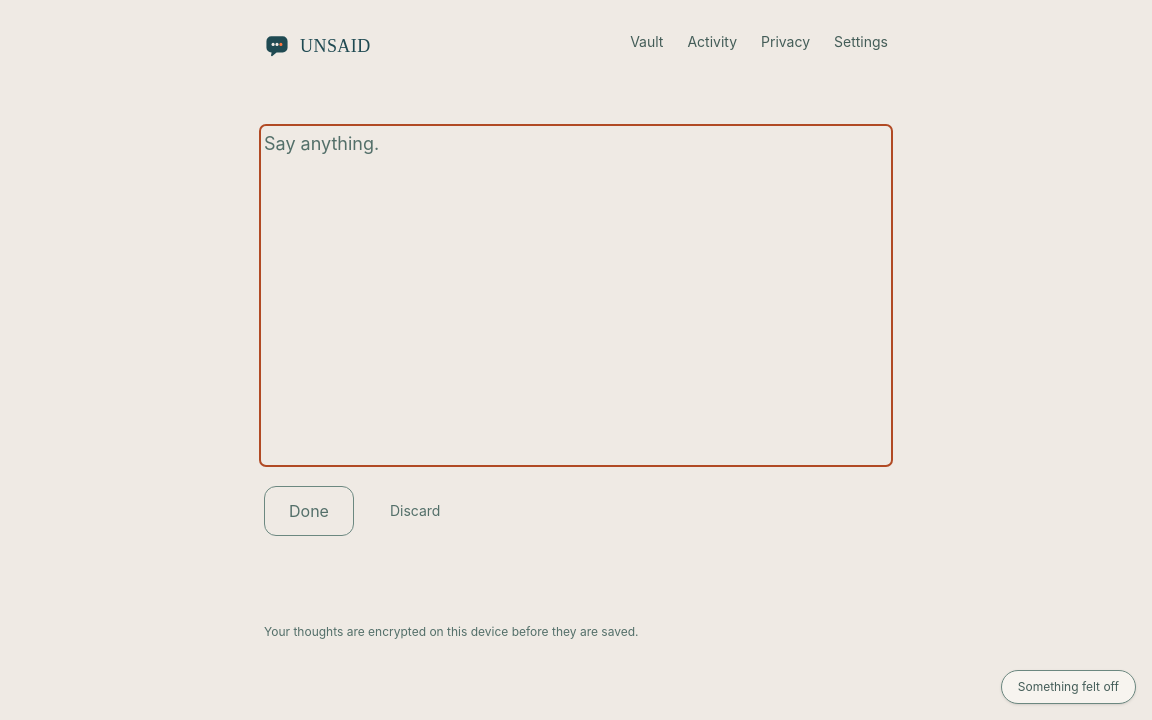
letting a thought go › does not discard it the instant the button is pressed
Type "the thing I have not said to anyone" into the text box with placeholder "Say anything.". click: (576, 296)
box: [264,129,888,462]
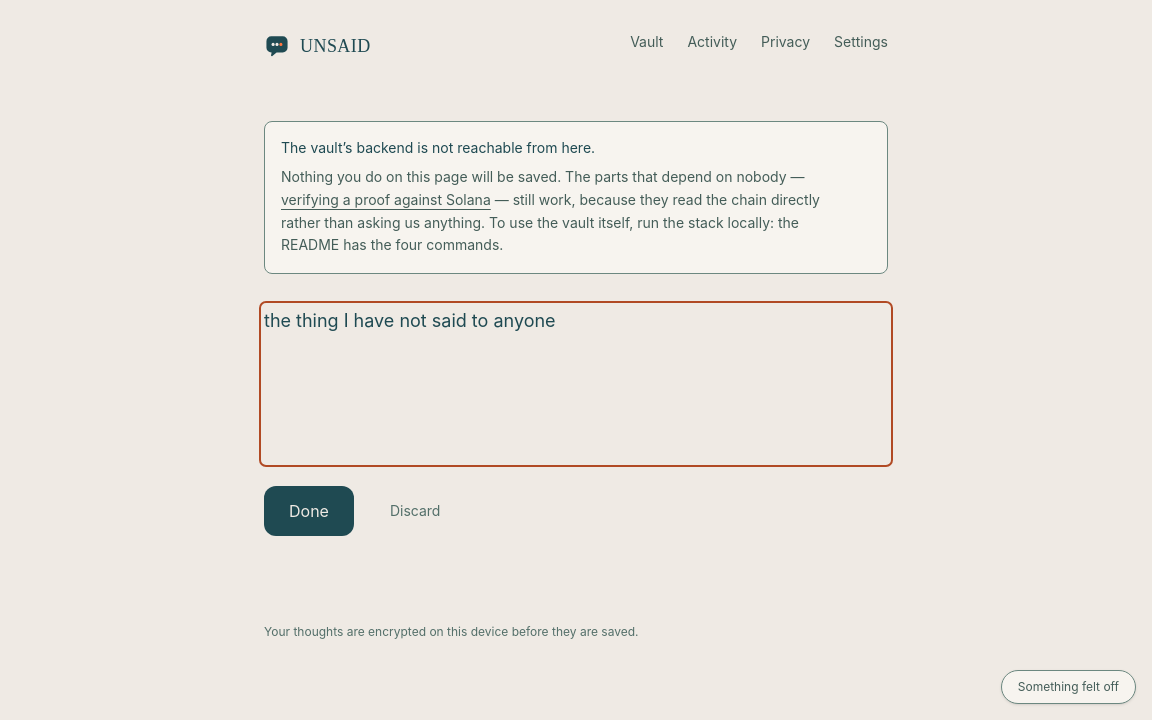
Click the button "Done". click: (309, 511)
box: [264,486,354,536]
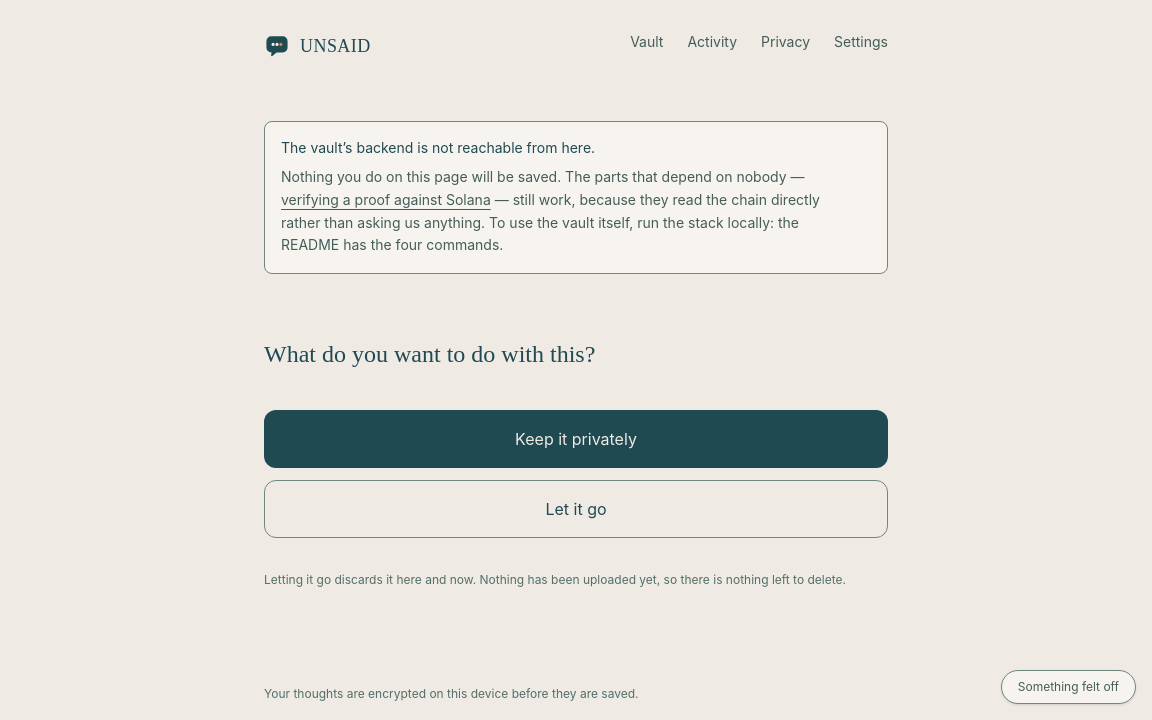
Click the button "Let it go". click: (576, 509)
box: [264,480,888,538]
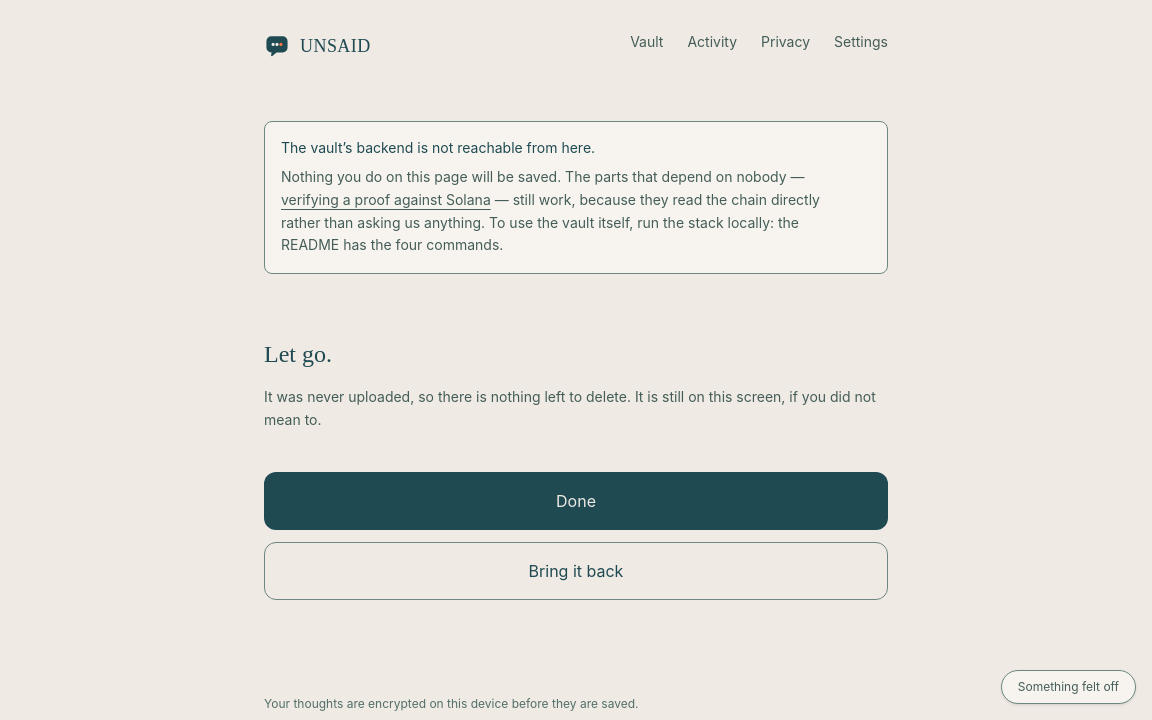
Result: the heading "Let go." is shown at [264,341,332,367]
Result: the button "Bring it back" is shown at [264,542,888,600]
